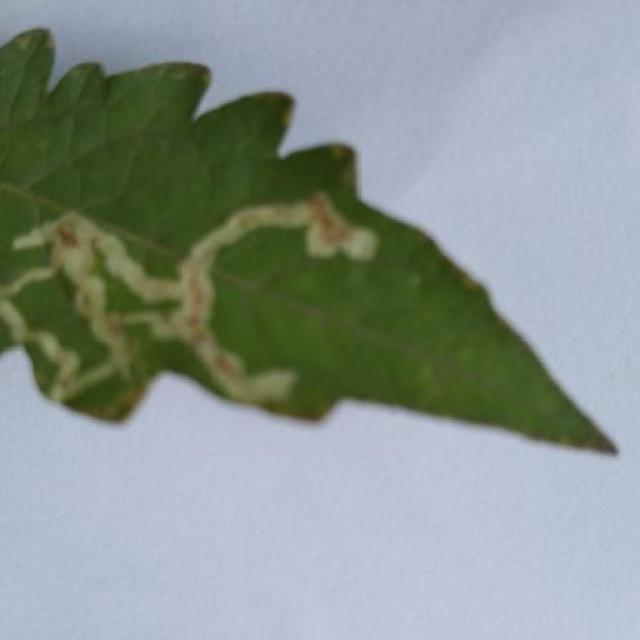Leaf Miner: (0, 26, 621, 462)
